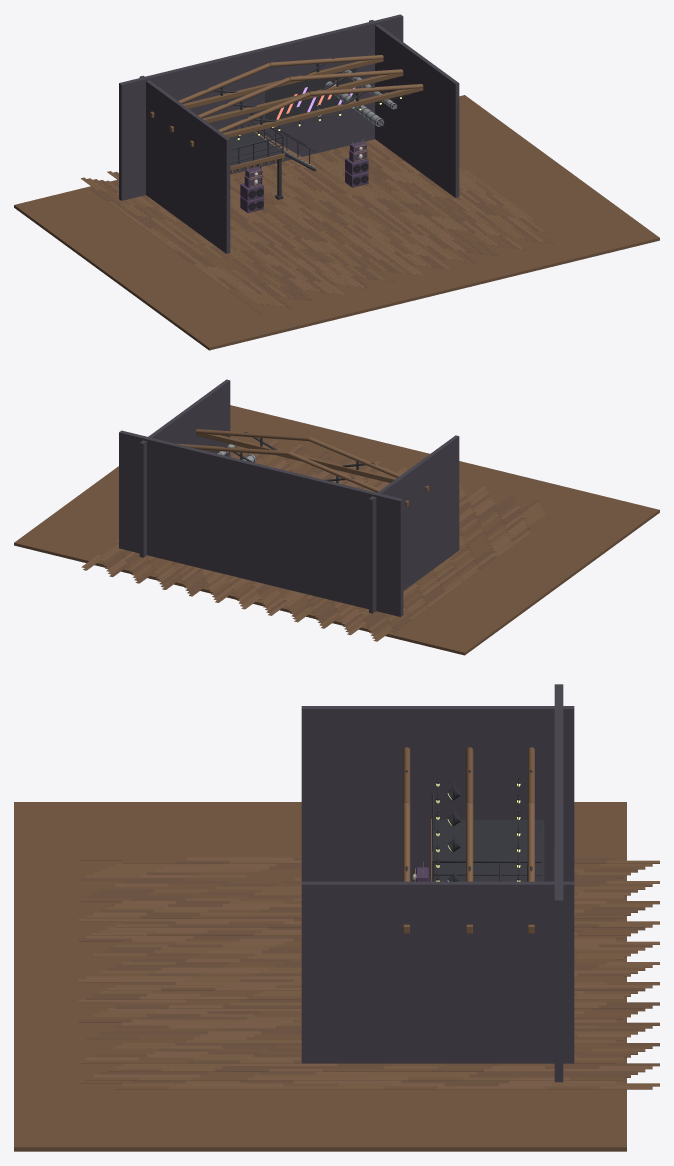
The model's file is VenuePublicWorks.fbx.
3 views of the same model, one above another, from view 1: azimuth 30°, elevation 25°; view 2: azimuth 150°, elevation 25°; view 3: azimuth 270°, elevation 25° (orthographic). The views are drawn at different scales.
Parts seen in each view (by area): view 1: VenuePublicWorks; view 2: VenuePublicWorks; view 3: VenuePublicWorks.
Boxes of the visible parts, x1,y1,x2,y2 form: VenuePublicWorks: (14,14,659,350); VenuePublicWorks: (14,379,659,655); VenuePublicWorks: (14,684,659,1151).
Bounding box in the file's own units: 24 × 18.97 × 6.05.
